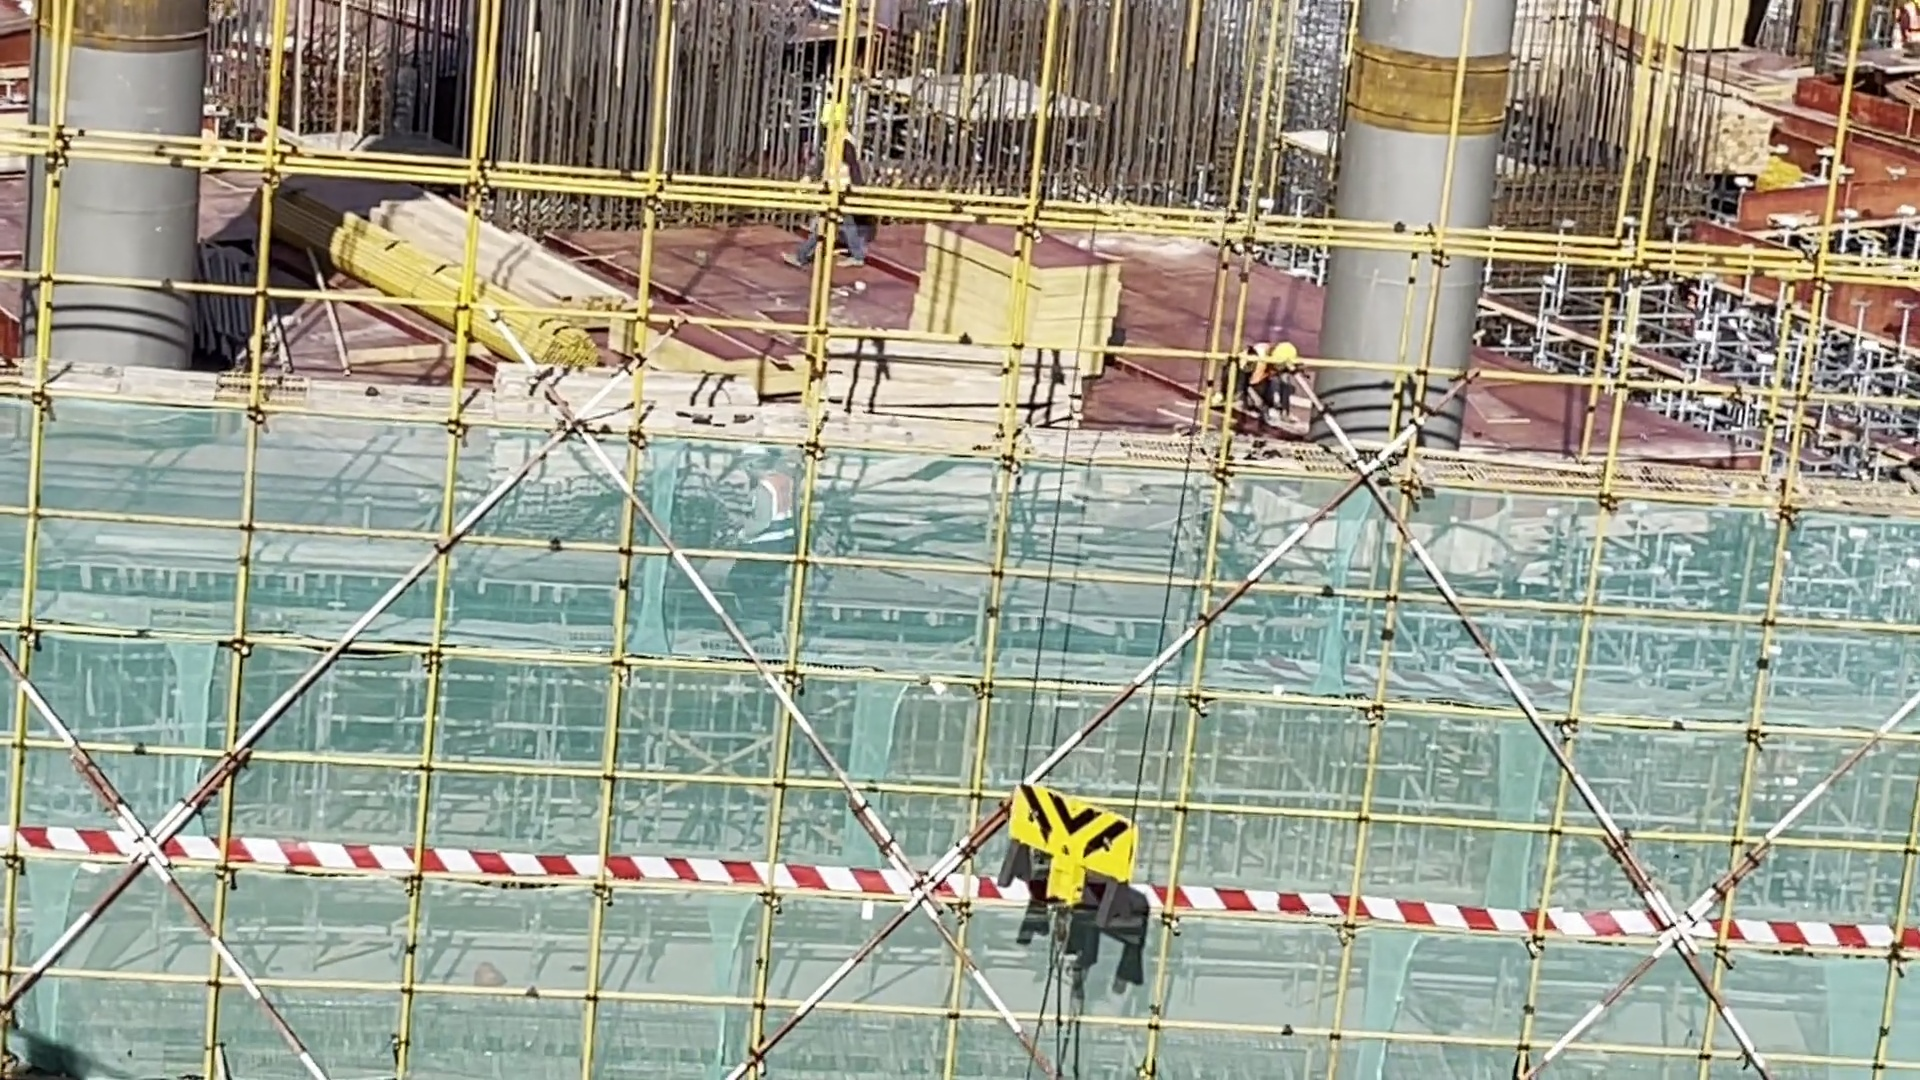board: (906, 210, 1113, 377)
hook: (1012, 787, 1133, 919)
person: (1229, 335, 1301, 424)
wood: (270, 145, 644, 381), (1685, 85, 1774, 189)
